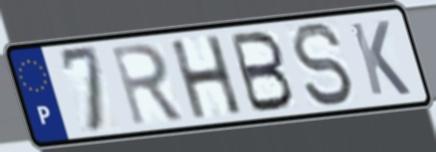7: (55, 44, 109, 136)
B: (227, 29, 297, 116)
H: (167, 32, 247, 123)
K: (346, 18, 414, 98)
R: (107, 40, 188, 129)
S: (287, 21, 358, 110)
